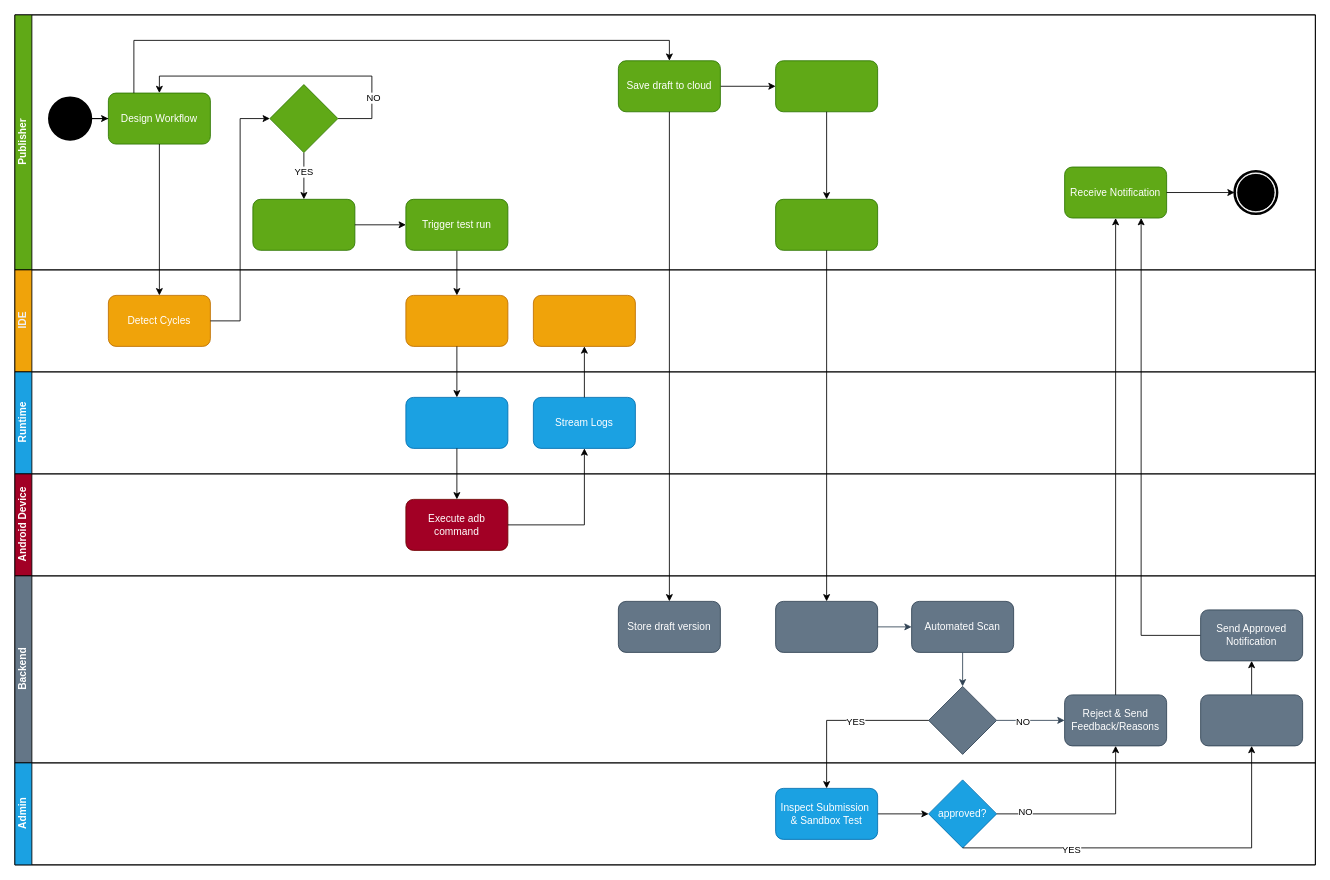
Image size: 1330x880. Some labels were removed from this diagram. Each missing label, with the centre of its shape:
"Compile IR, Encrypt, Build .a2m & Publish" goes at (x=1251, y=720).
"Compile runtime IR" goes at (x=456, y=320).
"Create submission" goes at (x=826, y=626).
"Execute IR" goes at (x=456, y=422).
"Highlight active node" goes at (x=584, y=320).
"scan passed?" goes at (x=962, y=720).
"Select target android devices/simulator" goes at (x=303, y=224).
"Self-review & Enter Flow listing info" goes at (x=826, y=86).
"Submit for review" goes at (x=826, y=224).
"Valid Graph?" goes at (x=303, y=118).
